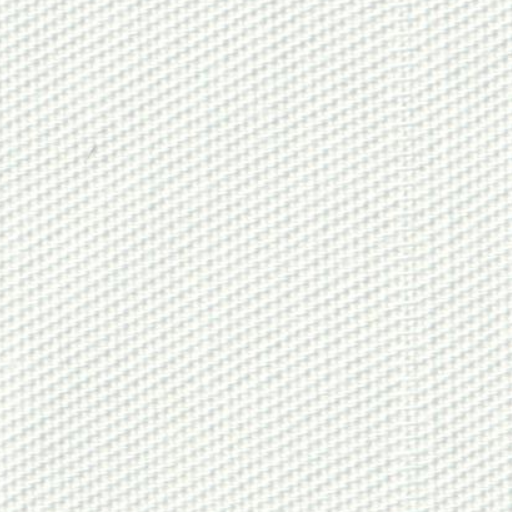TuoSha: (360, 6, 452, 500)
